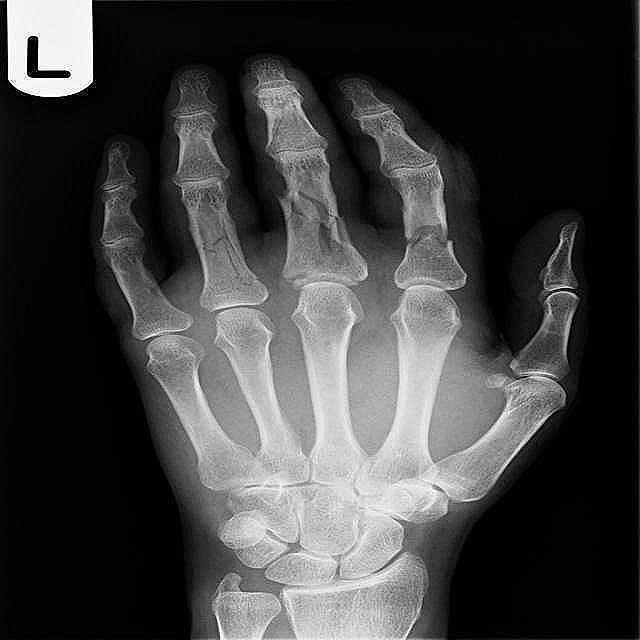bone: (270, 178, 358, 262), (183, 217, 254, 285), (100, 263, 174, 323), (396, 207, 460, 273)
